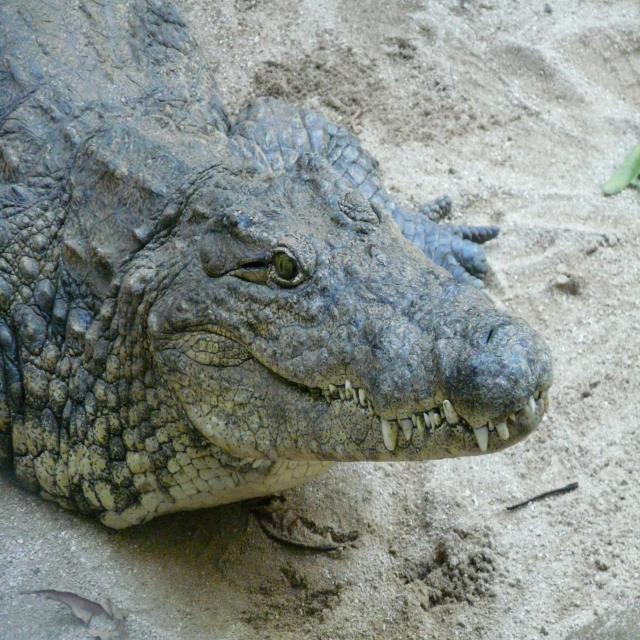crocodile: (0, 0, 555, 529)
